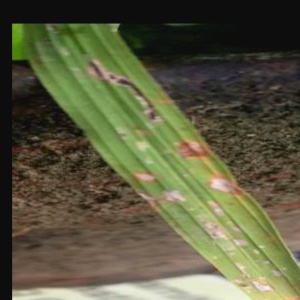Brown_Spot: (84, 52, 165, 121), (203, 168, 246, 200), (148, 182, 191, 211), (178, 132, 212, 165), (135, 161, 164, 192)
